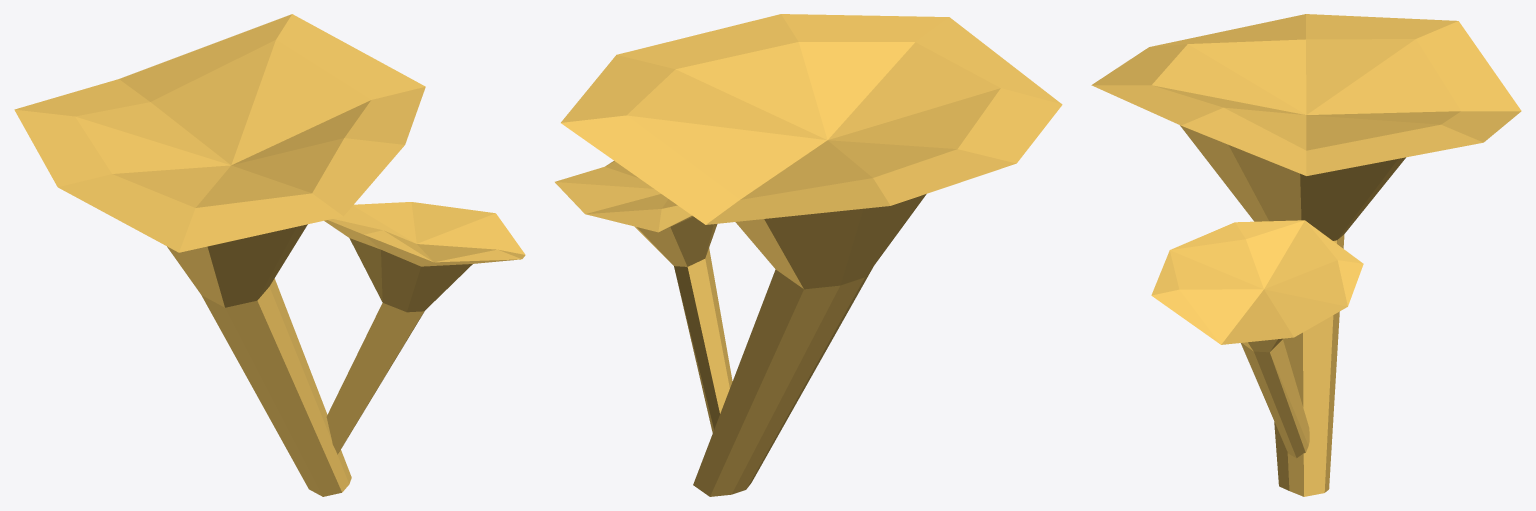
Rendered from Mushroom_j_03.fbx.
The picture shows the model from 3 angles, left to right: view 1: azimuth 30°, elevation 25°; view 2: azimuth 150°, elevation 25°; view 3: azimuth 270°, elevation 25°; orthographic projection. The views are drawn at different scales.
Visible parts, largest first — view 1: Mushroom_j_03; view 2: Mushroom_j_03; view 3: Mushroom_j_03.
Boxes of the visible parts, x1,y1,x2,y2 form: Mushroom_j_03: (14, 14, 525, 496); Mushroom_j_03: (555, 14, 1062, 496); Mushroom_j_03: (1091, 14, 1521, 496).
Size of the model in its own units: 0.2199 by 0.1895 by 0.198.
